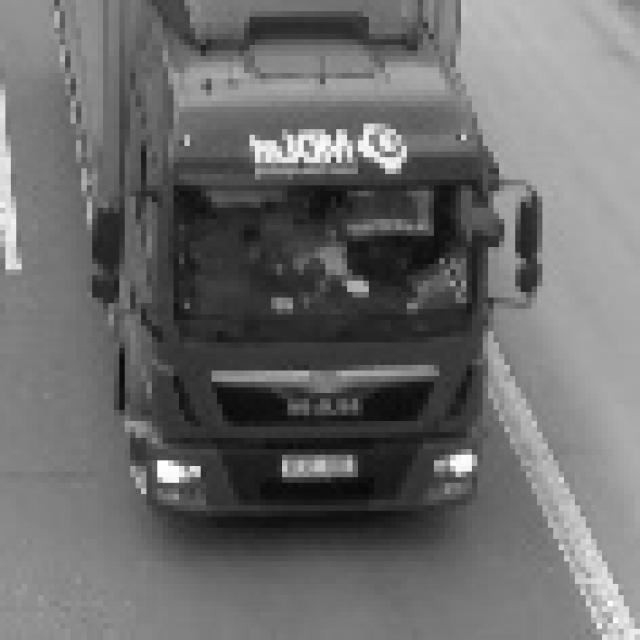truck: (38, 0, 537, 528)
